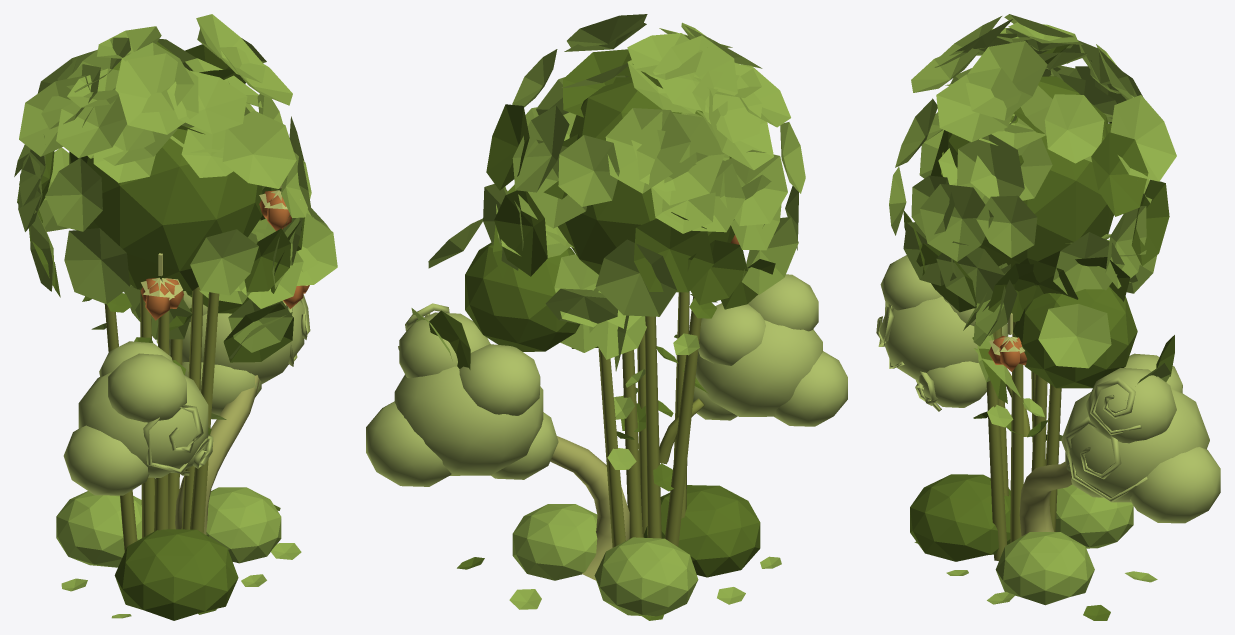
The picture shows the model from 3 angles, left to right: view 1: azimuth 30°, elevation 25°; view 2: azimuth 150°, elevation 25°; view 3: azimuth 270°, elevation 25°; orthographic projection. The views are drawn at different scales.
Visible parts, largest first — view 1: leaves_light, leaves_dark, cloud_clumps, stems, trunk, nuts, husks; view 2: leaves_light, cloud_clumps, leaves_dark, stems, trunk; view 3: leaves_light, leaves_dark, cloud_clumps, stems, trunk, nuts.
Boxes of the visible parts, left/top/right/bottom form: leaves_light: left=14, top=14, right=337, bottom=618; leaves_dark: left=17, top=42, right=304, bottom=620; cloud_clumps: left=63, top=291, right=310, bottom=495; stems: left=104, top=287, right=219, bottom=551; trunk: left=175, top=375, right=259, bottom=534; nuts: left=141, top=190, right=309, bottom=320; husks: left=141, top=185, right=307, bottom=300; leaves_light: left=411, top=14, right=805, bottom=616; cloud_clumps: left=366, top=274, right=847, bottom=486; leaves_dark: left=429, top=49, right=775, bottom=620; stems: left=598, top=291, right=704, bottom=547; trunk: left=550, top=436, right=629, bottom=580; leaves_light: left=889, top=14, right=1176, bottom=605; leaves_dark: left=903, top=44, right=1174, bottom=620; cloud_clumps: left=876, top=255, right=1220, bottom=523; stems: left=986, top=321, right=1061, bottom=560; trunk: left=1019, top=461, right=1072, bottom=536; nuts: left=988, top=336, right=1027, bottom=371.
Bounding box in the file's own units: 1.73 × 2.61 × 1.55.
